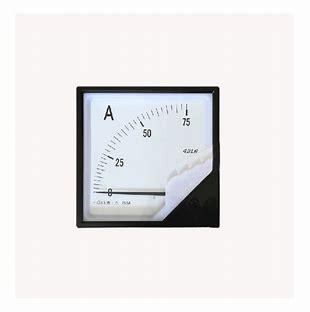pointer: (81, 92, 212, 223)
